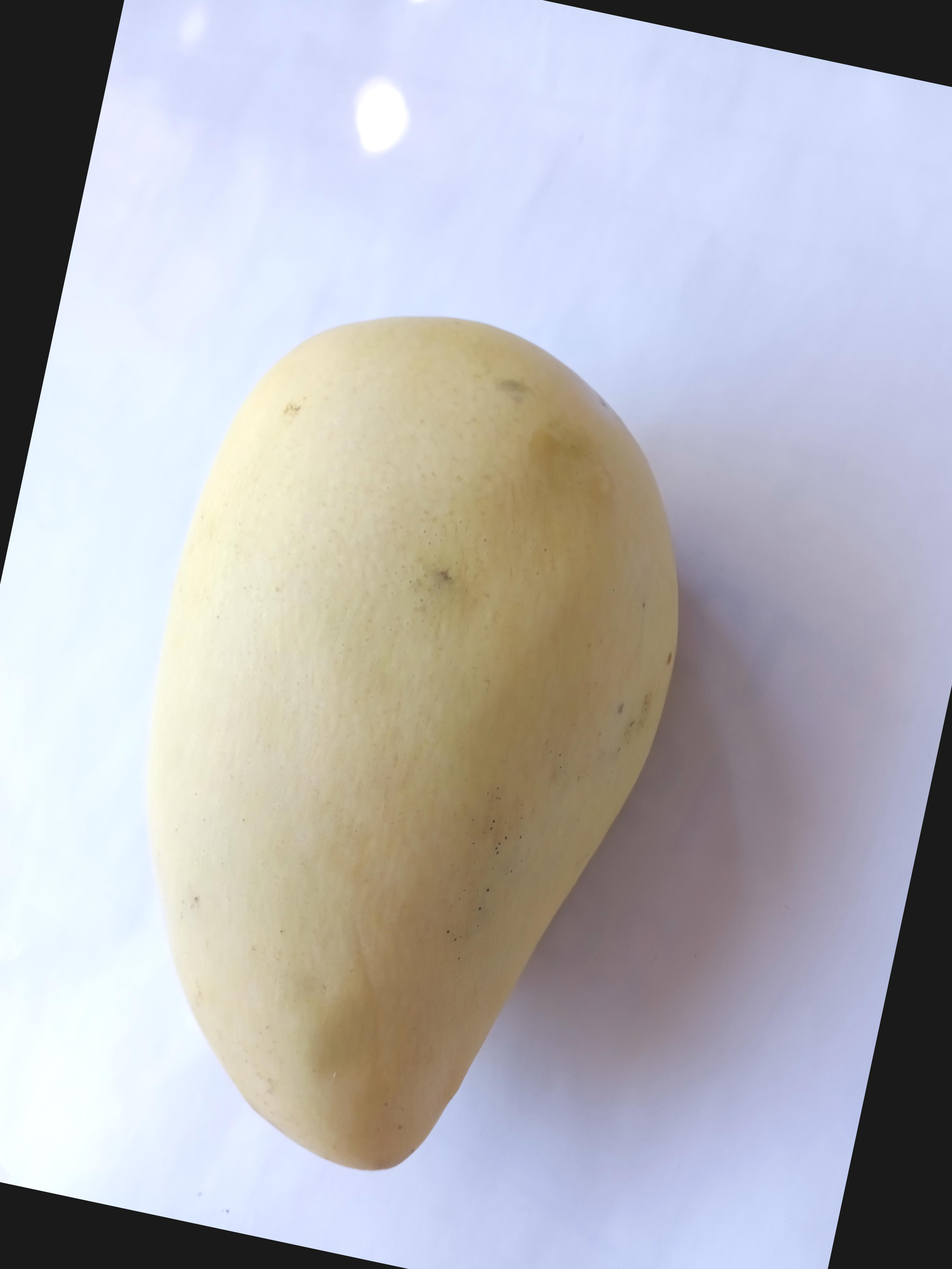Mango Ripe: (179, 83, 952, 1148)
